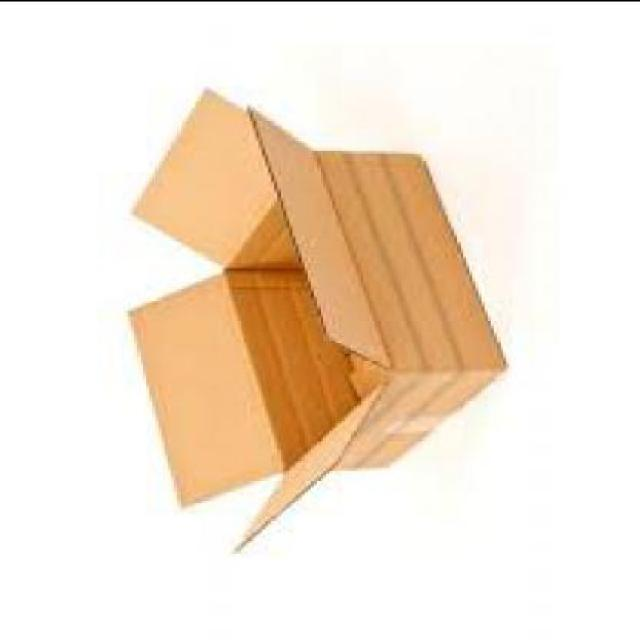CARDBOARD: (122, 90, 503, 555)
